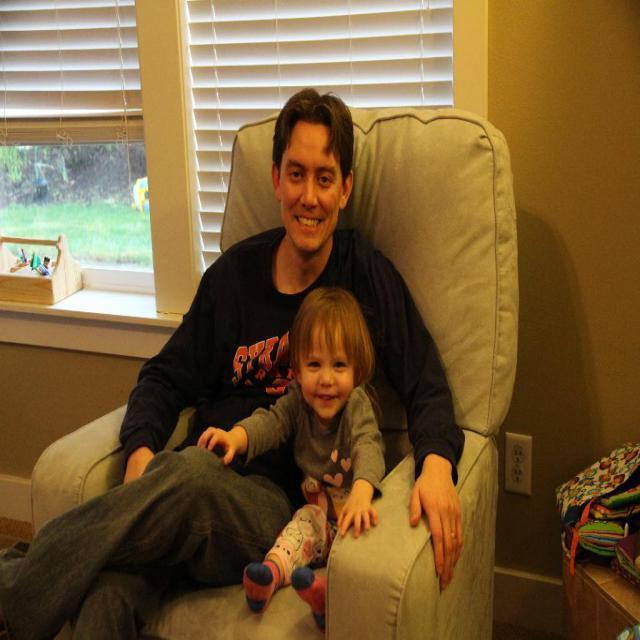closed-mouth: (315, 391, 343, 407)
